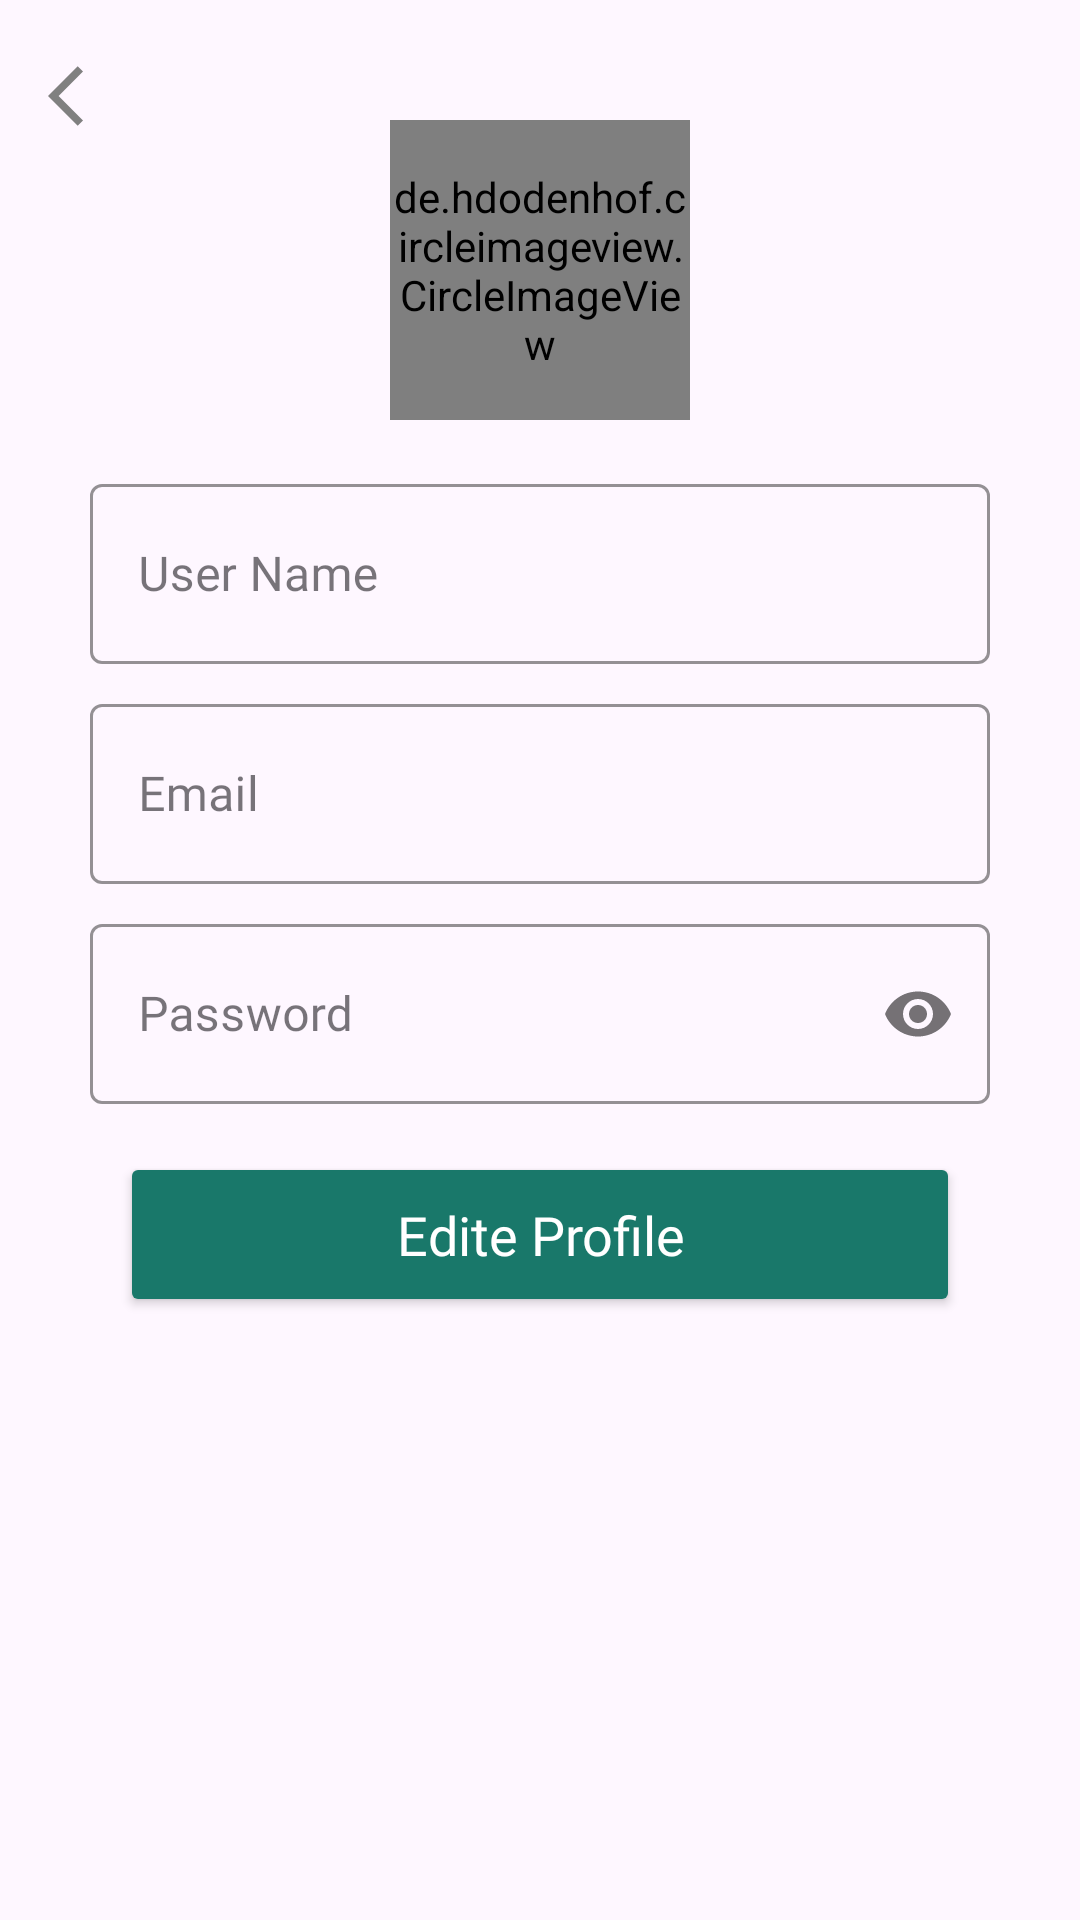

Icon click points for this 1080×1920 phone screenshot, format point (x, y):
arrow back: point (65, 96)
